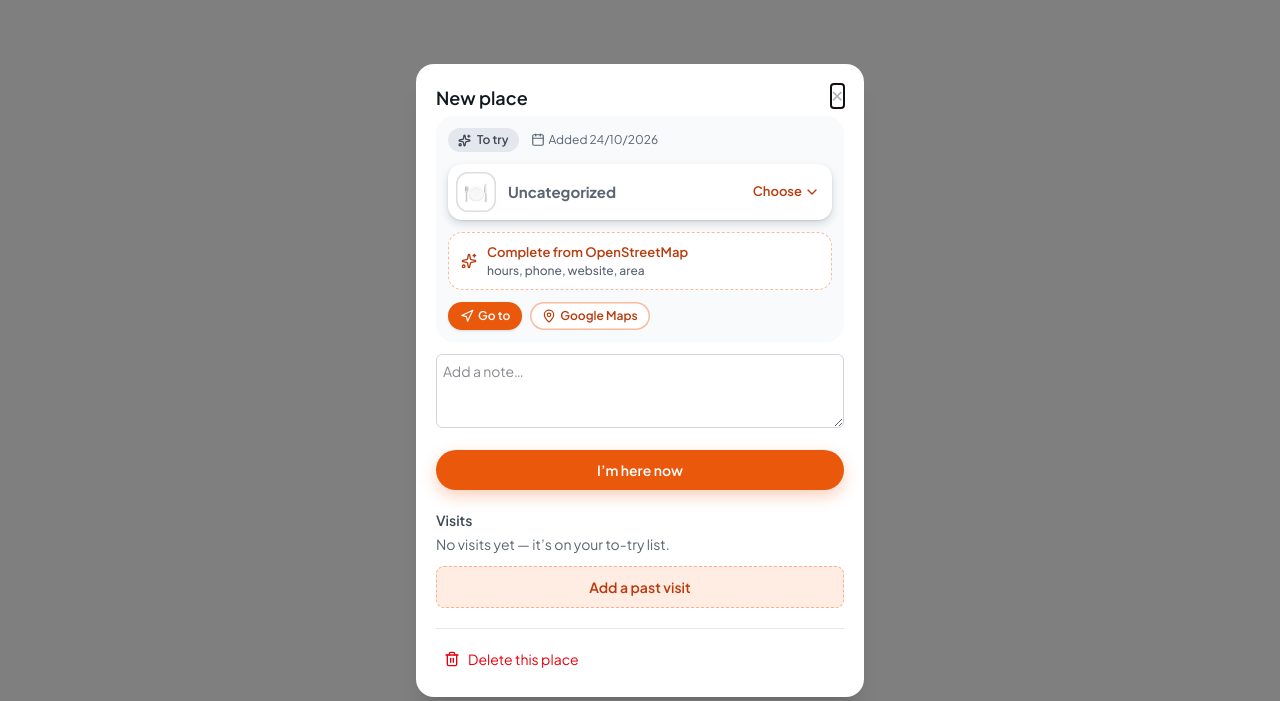
Test: RestaurantDetail › flips a to-try place to visited with one-tap "I'm here now"
This screenshot has width=1280, height=701.
expect the text "To try" is shown: met, box x1=477 y1=132 x2=508 y2=148
Click the button "I’m here now": (640, 470) x1=436 y1=450 x2=844 y2=490
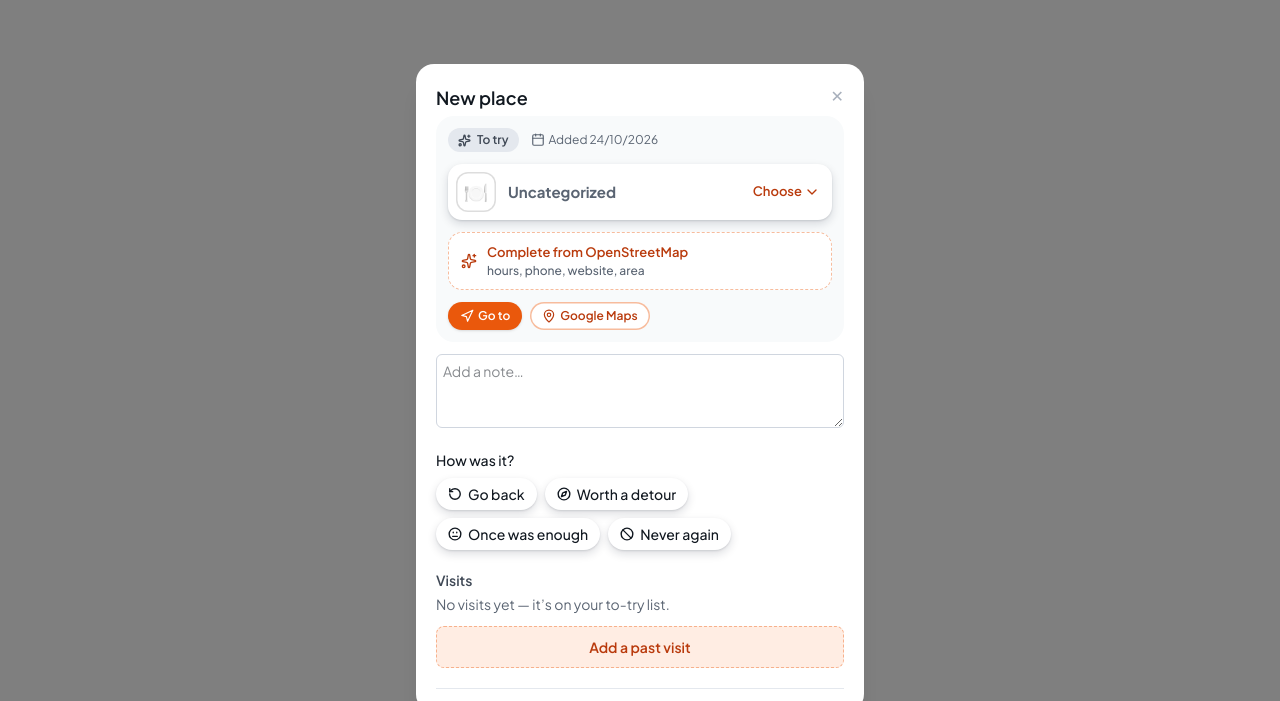
Click the button "Go back": (486, 494) x1=436 y1=478 x2=537 y2=510
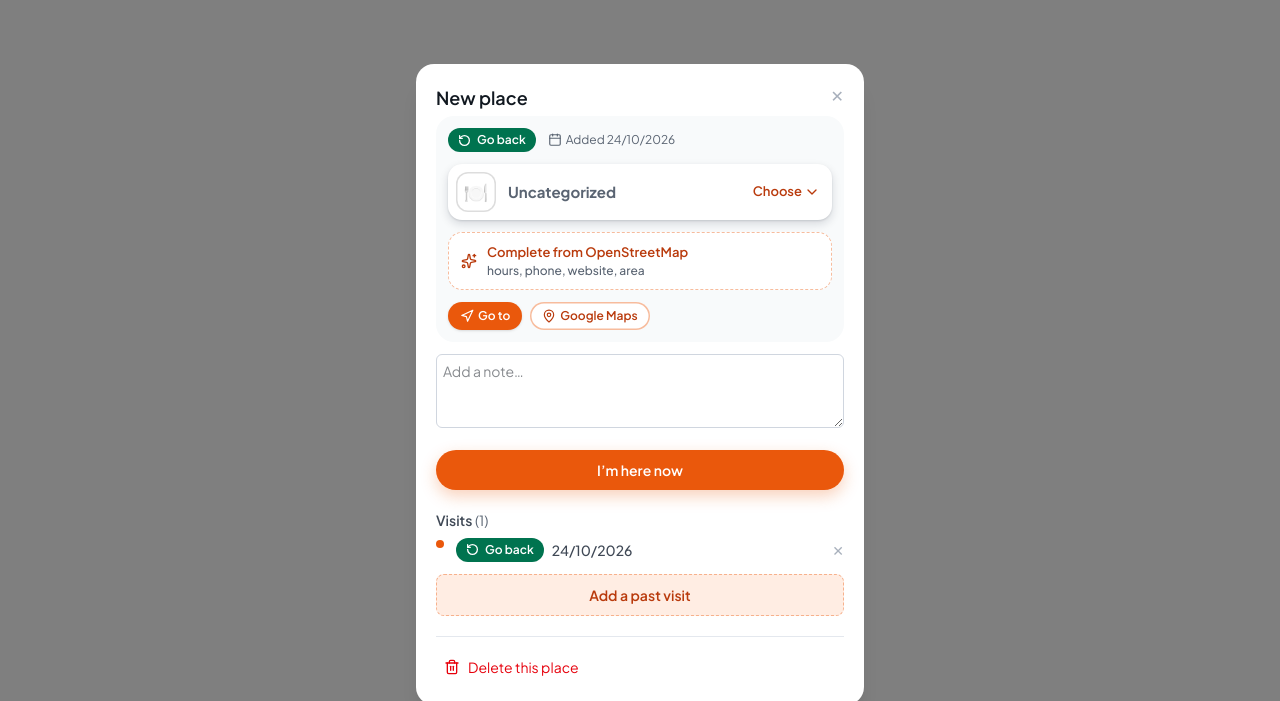
expect the text "Go back" is shown 3 times: met
expect the text "(1)" is shown: met, box x1=475 y1=510 x2=488 y2=528
